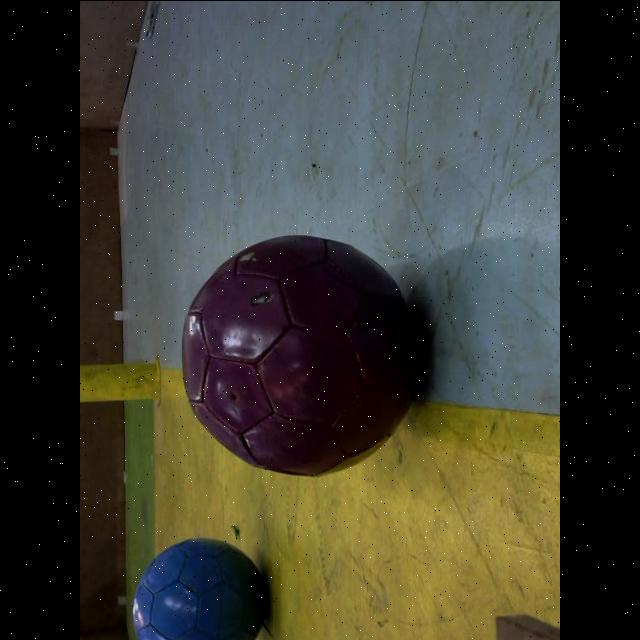B: (133, 536, 269, 640)
P: (182, 234, 416, 478)
